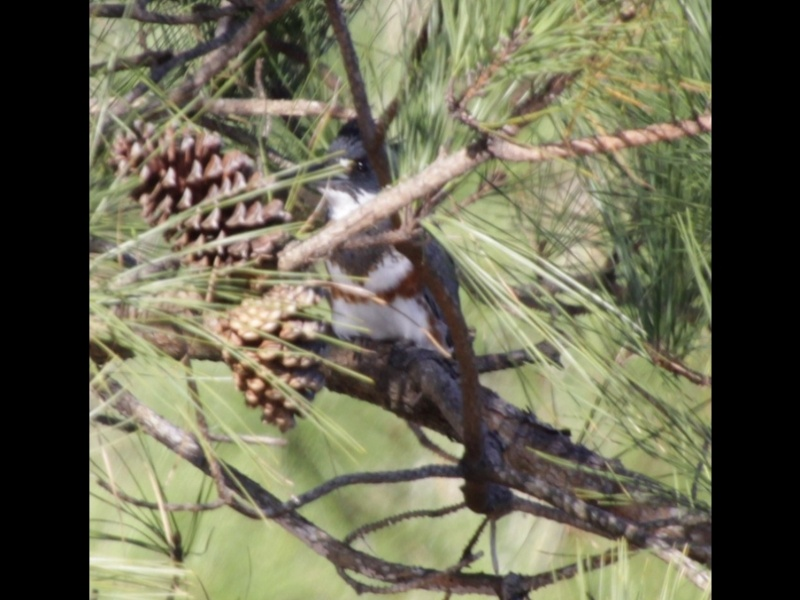kingfisher: (299, 122, 481, 371)
